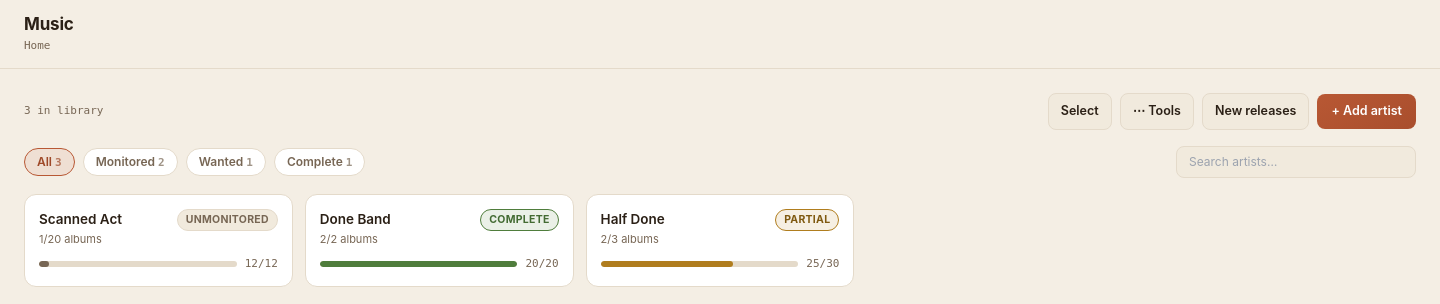
Test case: Music list states › counts artists complete by their albums, not their tracks
This screenshot has width=1440, height=304.
expect the text "1/20 albums" is shown: met, box [39, 232, 102, 246]
Click the button "Complete 1". click: (320,162)
box: [274, 148, 366, 176]
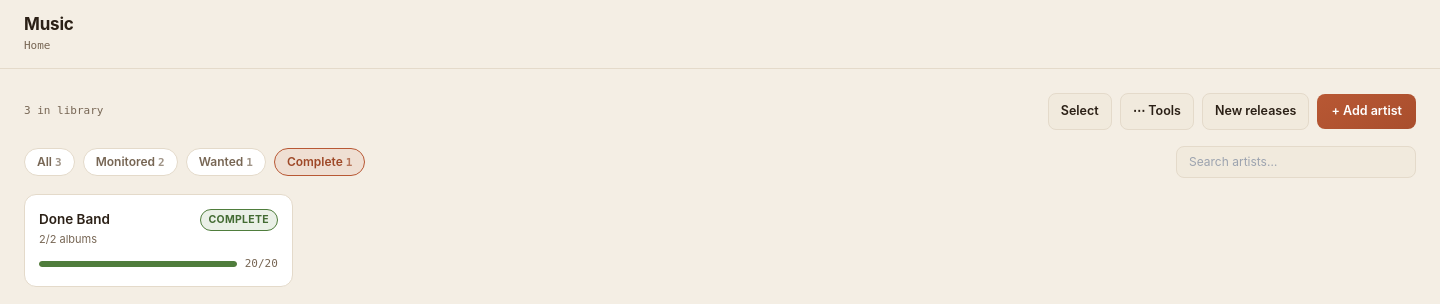
expect the text "Done Band" is shown: met, box [39, 209, 110, 229]
expect the link "Scanned Act" is gone: met
expect the link "Half Done" is gone: met
Click the button "Wanted 1". click: (226,162)
box: [186, 148, 266, 176]
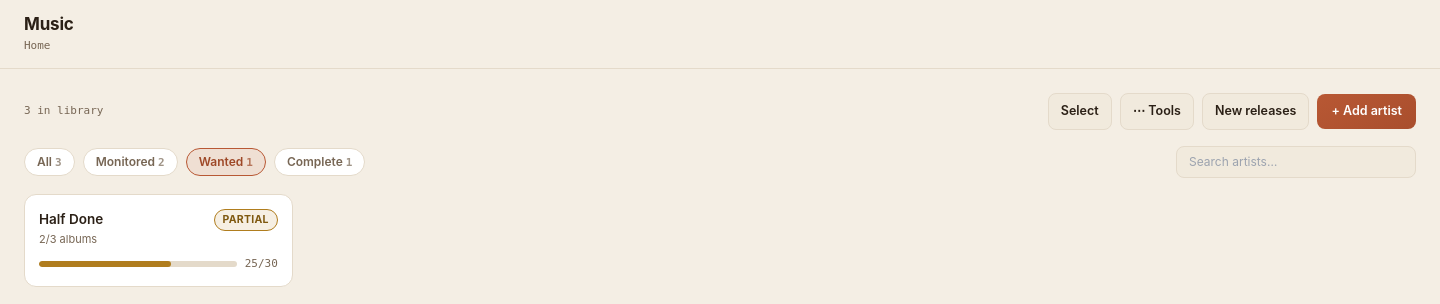
expect the text "Half Done" is shown: met, box [39, 209, 103, 229]
expect the link "Done Band" is gone: met
